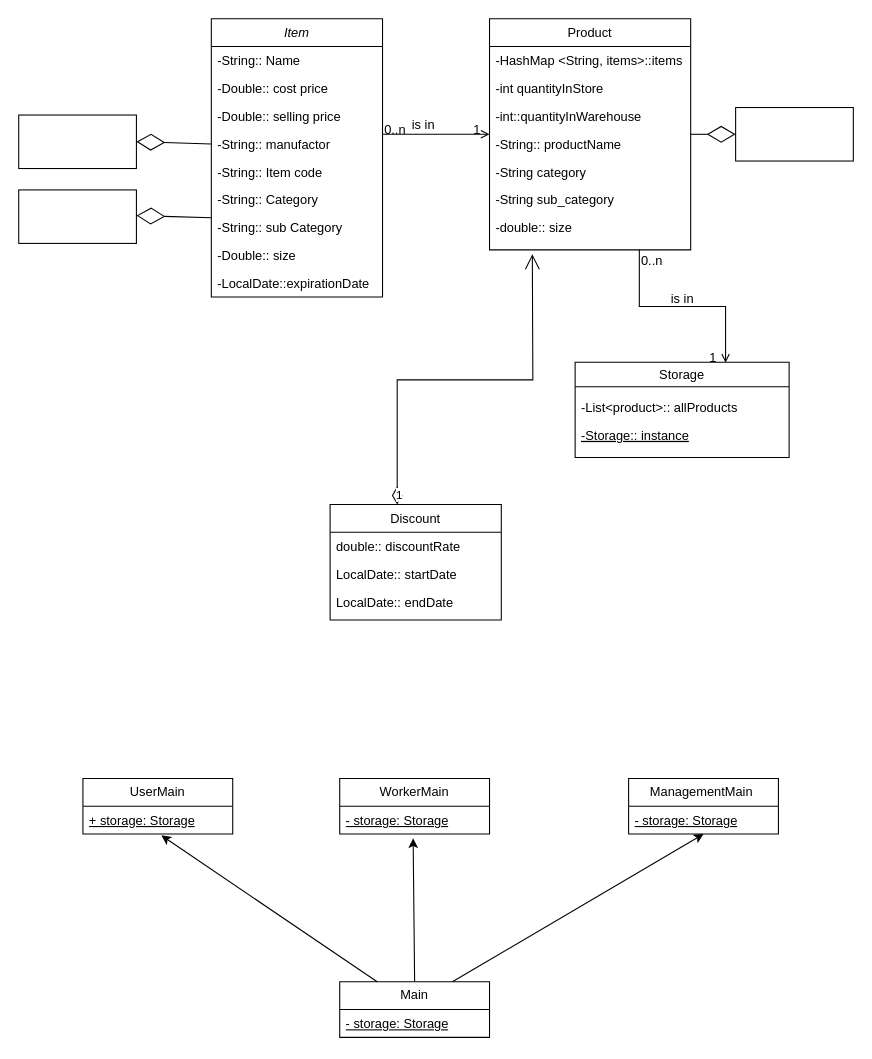
The diagram is 872 pixels wide and 1059 high, and some of its shapes have lost their labels. Here are the shapes that lost their labels. From the top down, the centre of each, then its label:
pixel 77 141: «enum» ItemPlace
pixel 794 133: «enum» ProductStatus
pixel 77 216: «enum» ItemStatus
